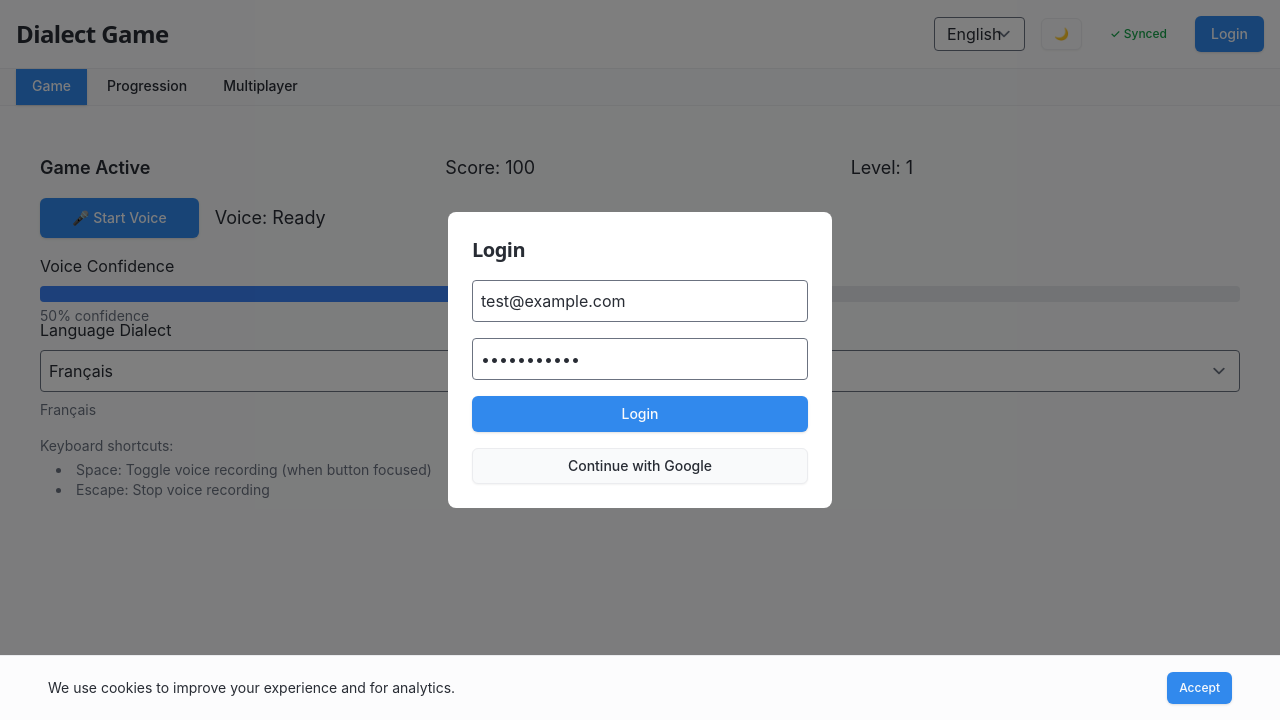
it: App Integration Tests (TDD CYCLE 6 RED Phase) › Phase RED - Tests d'intégration finale qui doivent échouer initialement › should implement complete user authentication flow
Expected: the button with test id "login-button" is shown, top-left (1195, 16), bottom-right (1264, 52)
# Test login standard
Click the button with test id "submit-login": (640, 414) top-left (472, 396), bottom-right (808, 432)
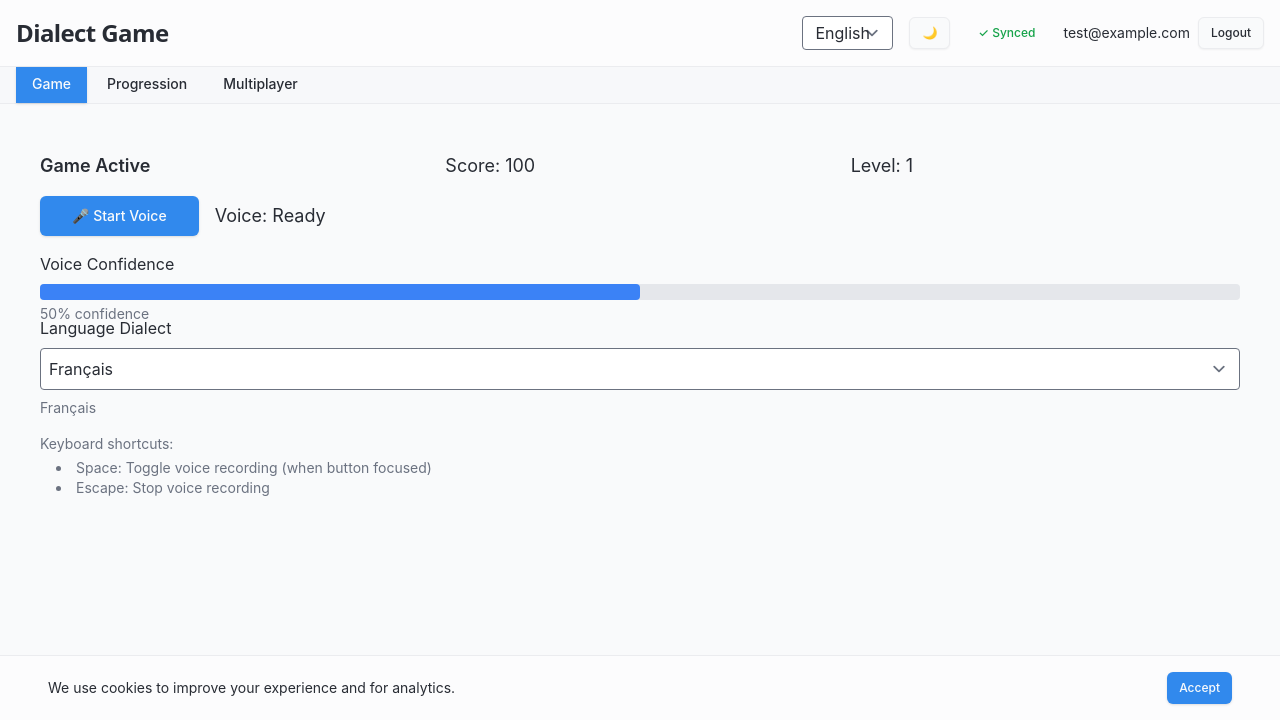
Expected: the text "test@example.com" is shown, top-left (1063, 23), bottom-right (1190, 43)
Expected: the text with test id "user-profile" reads "test@example.com", top-left (1063, 24), bottom-right (1190, 41)
# Test logout
Click the button with test id "logout-button": (1231, 33) top-left (1198, 17), bottom-right (1264, 49)
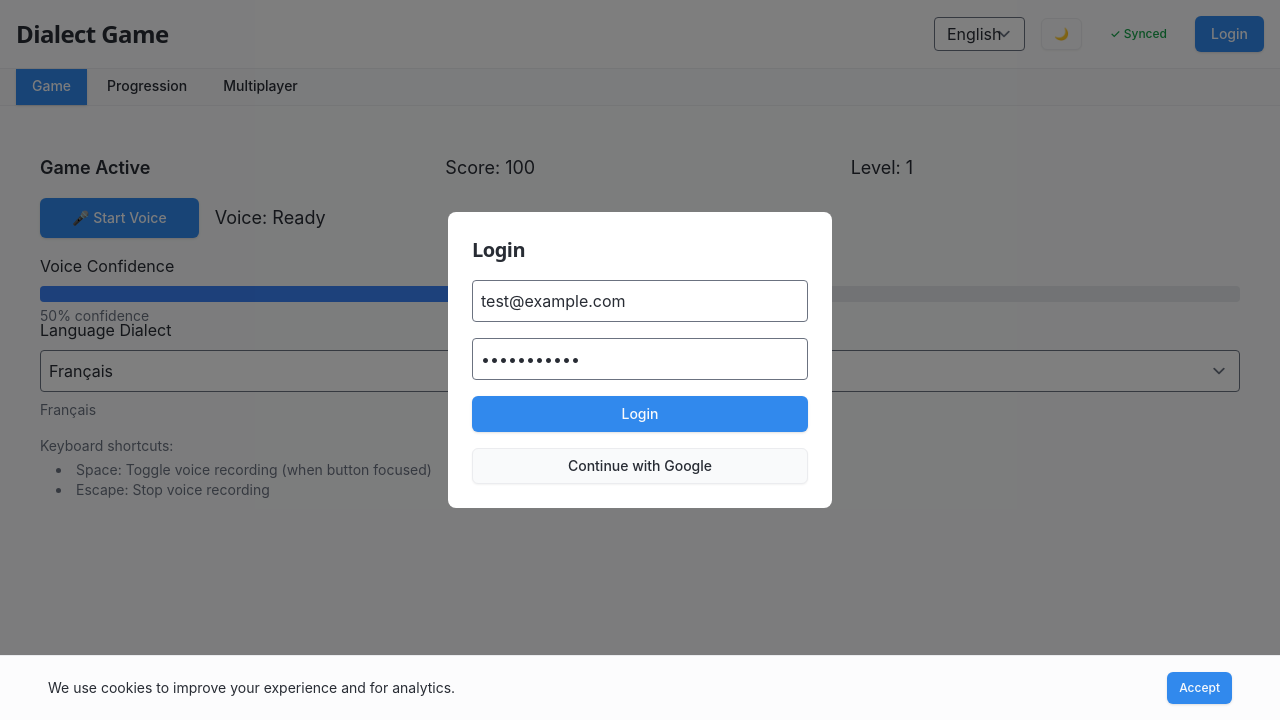
Expected: the element with test id "login-form" is shown
